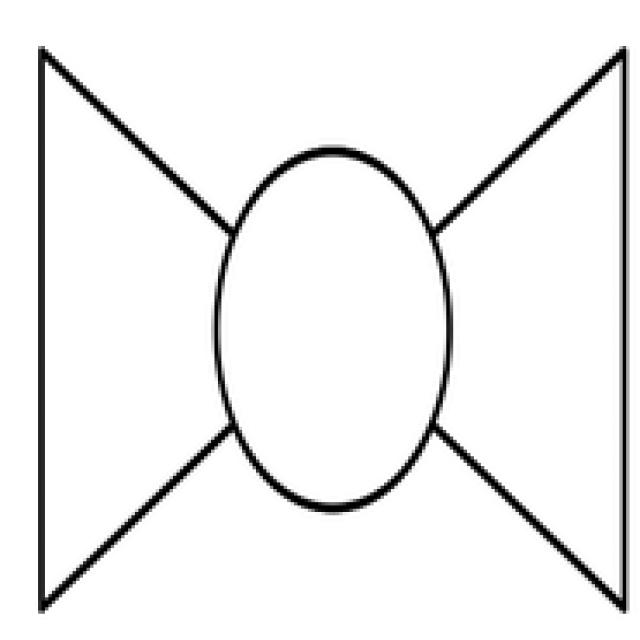ball valve: (42, 52, 625, 611)
